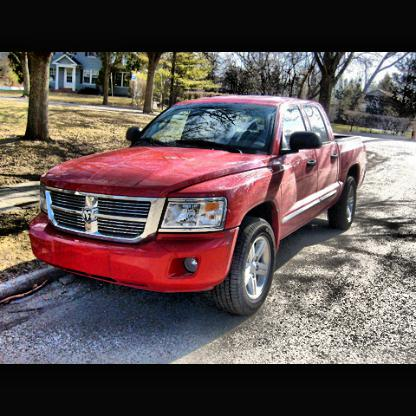Dodge Dakota Crew Cab 2010: (30, 96, 369, 315)
